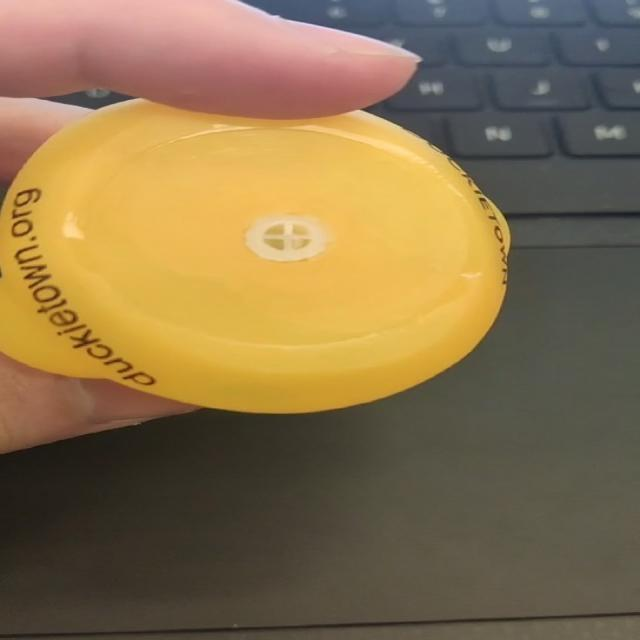rubber-duck: (0, 98, 508, 411)
